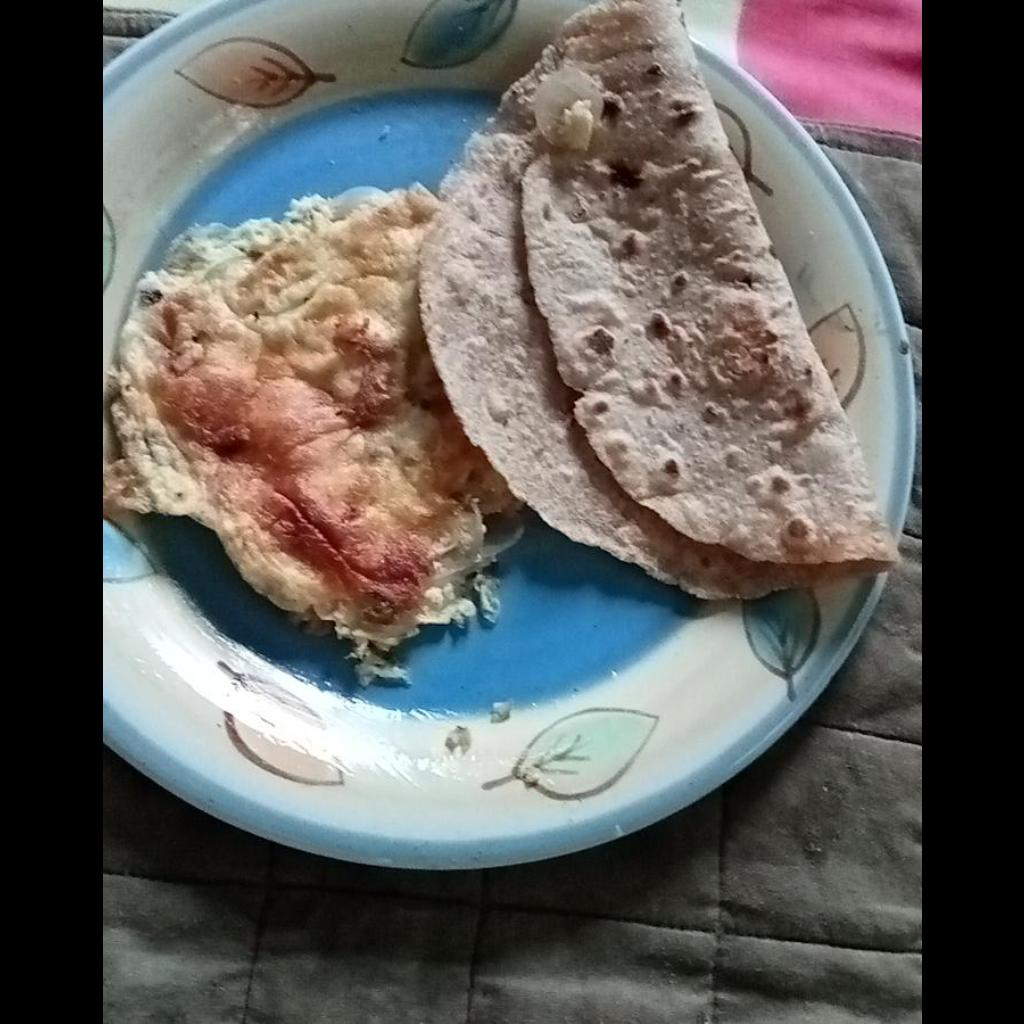egg-poached: (102, 183, 517, 653)
ruti: (419, 0, 900, 599)
